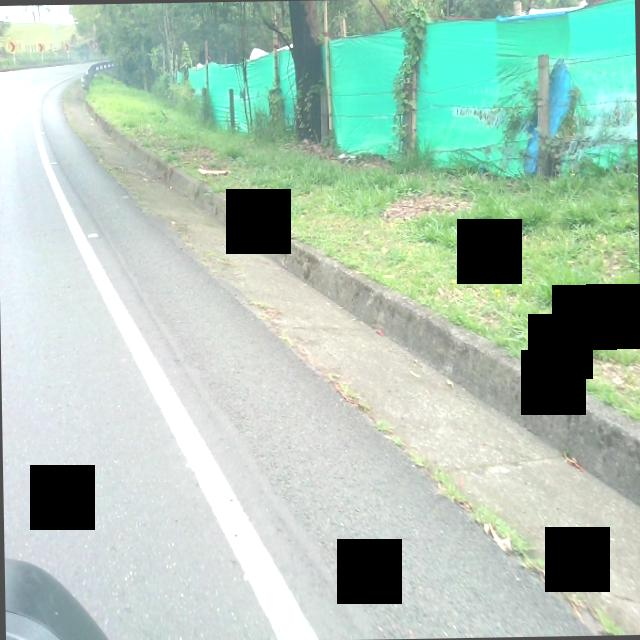DITCH: (45, 54, 640, 640)
